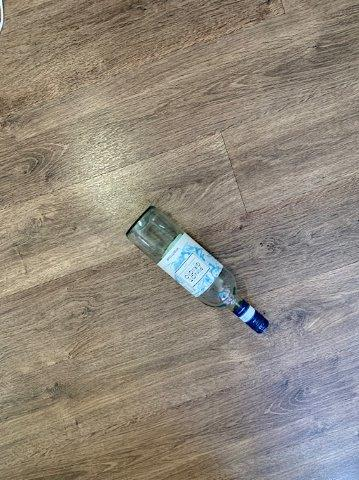botolkaca: (126, 206, 269, 333)
